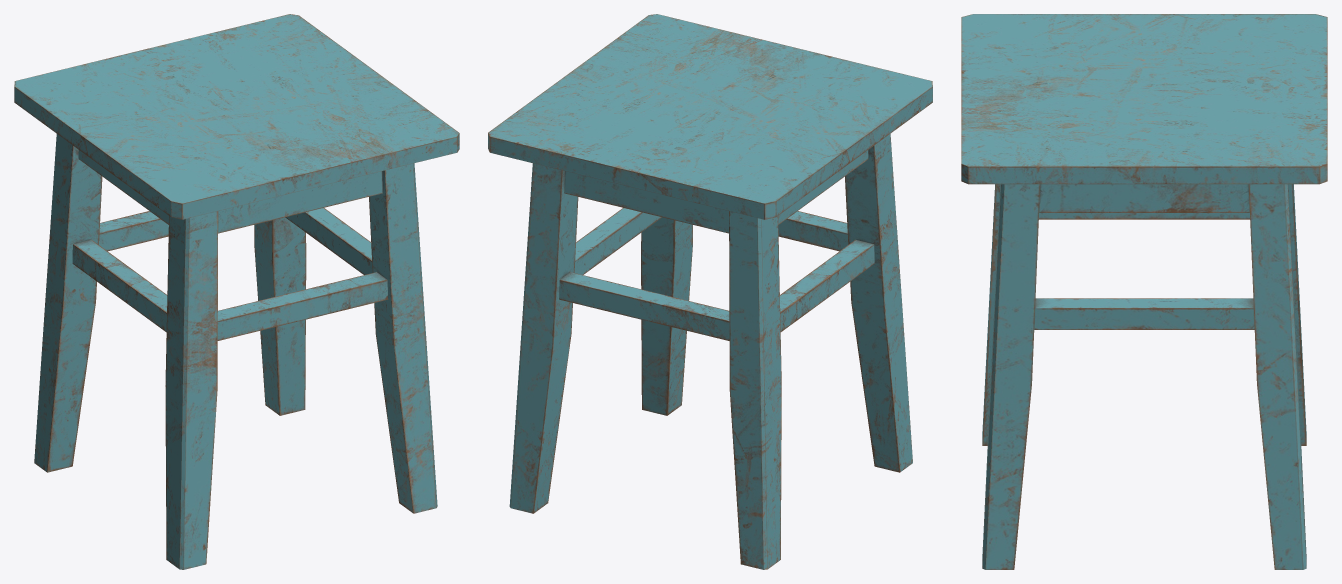
The model's file is stool_wood.glb.
The picture shows the model from 3 angles, left to right: view 1: azimuth 30°, elevation 25°; view 2: azimuth 150°, elevation 25°; view 3: azimuth 270°, elevation 25°; orthographic projection. The views are drawn at different scales.
Parts seen in each view (by area): view 1: stool_wood_low (×10), polySurface8; view 2: stool_wood_low (×10), polySurface8; view 3: stool_wood_low (×7), polySurface8.
Boxes of the visible parts, x1=… form: stool_wood_low (×10): x1=14, y1=14, x2=459, y2=569; polySurface8: x1=34, y1=134, x2=102, y2=472; stool_wood_low (×10): x1=488, y1=14, x2=932, y2=513; polySurface8: x1=729, y1=211, x2=781, y2=569; stool_wood_low (×7): x1=961, y1=14, x2=1327, y2=569; polySurface8: x1=1288, y1=184, x2=1306, y2=445.
Bounding box in the file's own units: 32.33 × 40.54 × 32.77.
Materials: 1 (1 with a texture image).
